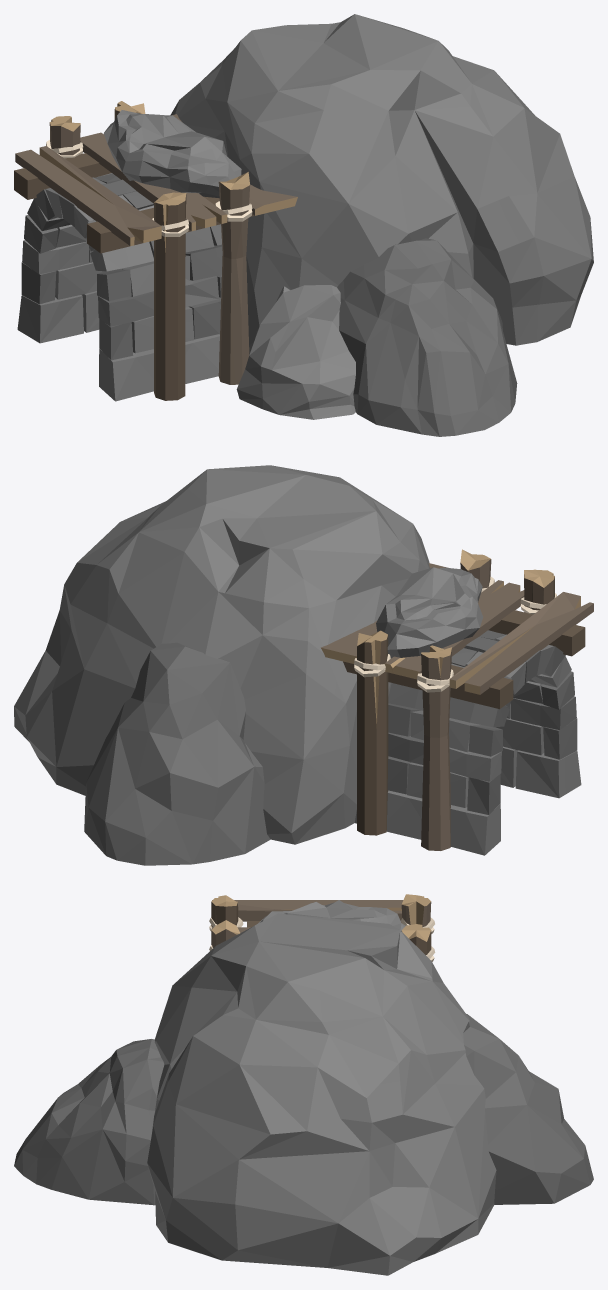
File: _mine_3.fbx
3 renders of one model, top to bottom at view 1: azimuth 30°, elevation 25°; view 2: azimuth 150°, elevation 25°; view 3: azimuth 270°, elevation 25°, orthographic. The views are drawn at different scales.
Visible parts, largest first — view 1: _mine_3:mine_3; view 2: _mine_3:mine_3; view 3: _mine_3:mine_3.
Part boxes in pixels (x1,y1,x2,y2): _mine_3:mine_3: (14, 14, 593, 436); _mine_3:mine_3: (14, 465, 593, 865); _mine_3:mine_3: (14, 894, 593, 1275).
Bounding box in the file's own units: 1437 × 719 × 1584.
